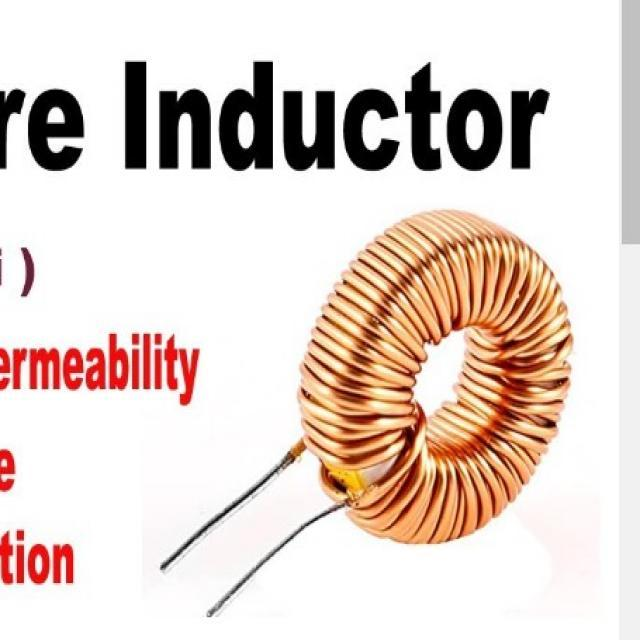Inductor: (162, 210, 572, 616)
